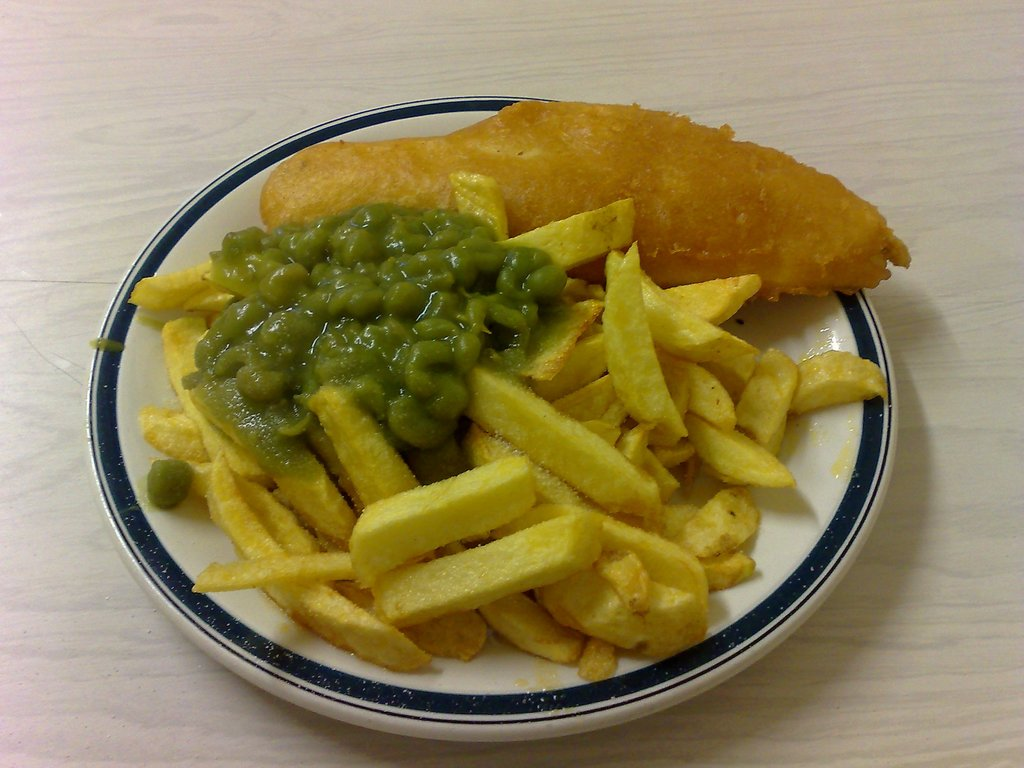French fries: (121, 167, 892, 687)
